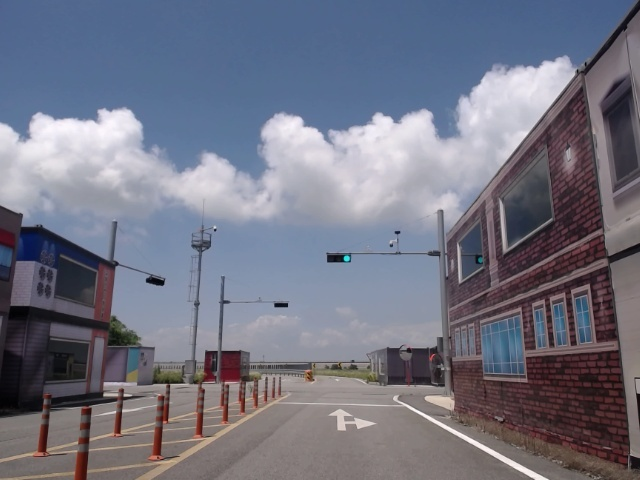green_3: (327, 256, 352, 263)
